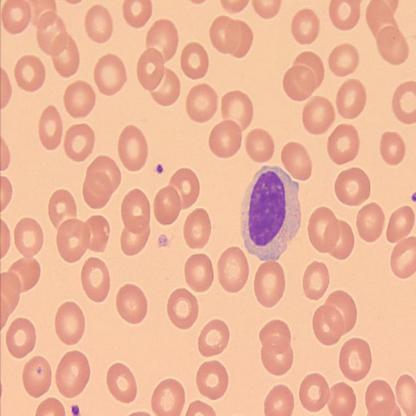Atypical lymphocyte: (239, 164, 304, 262)
